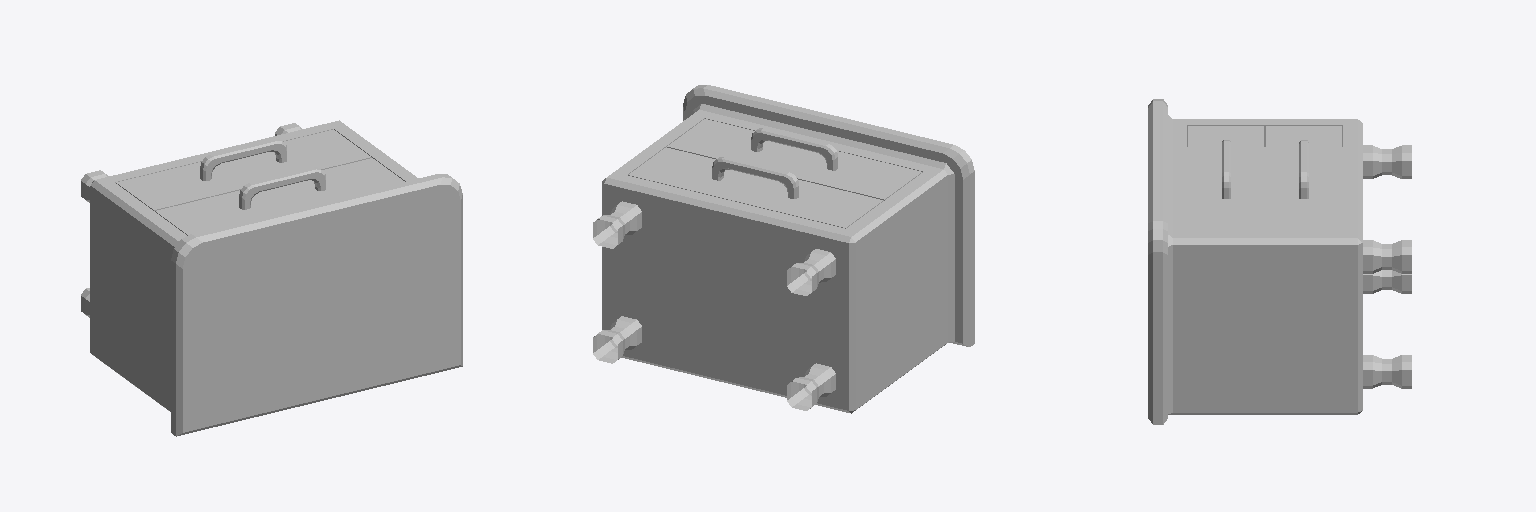
File: Night Stand.obj
3 views of the same model, side by side, from view 1: azimuth 30°, elevation 25°; view 2: azimuth 150°, elevation 25°; view 3: azimuth 270°, elevation 25° (orthographic).
Visible parts, largest first — view 1: Cube.003; view 2: Cube.003; view 3: Cube.003.
Part boxes in pixels (x1,y1,x2,y2): Cube.003: (81,120,462,436); Cube.003: (593,85,974,413); Cube.003: (1148,99,1411,424).
Size of the model in its own units: 68 by 45 by 54.